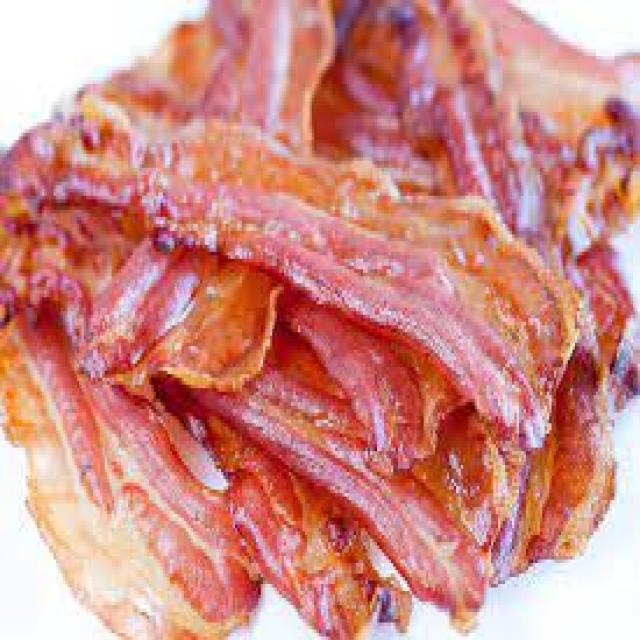Bacon: (53, 103, 575, 450), (160, 327, 484, 617), (0, 314, 260, 637)
